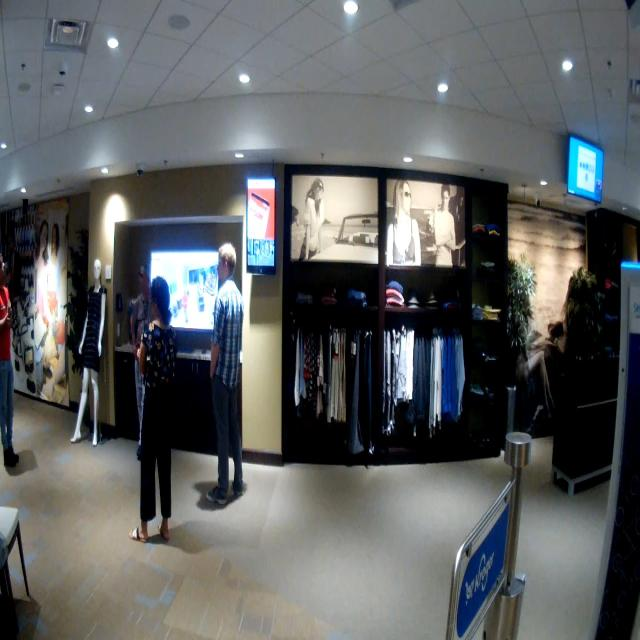normal: (128, 270, 188, 556), (200, 235, 257, 513), (0, 241, 39, 495)
